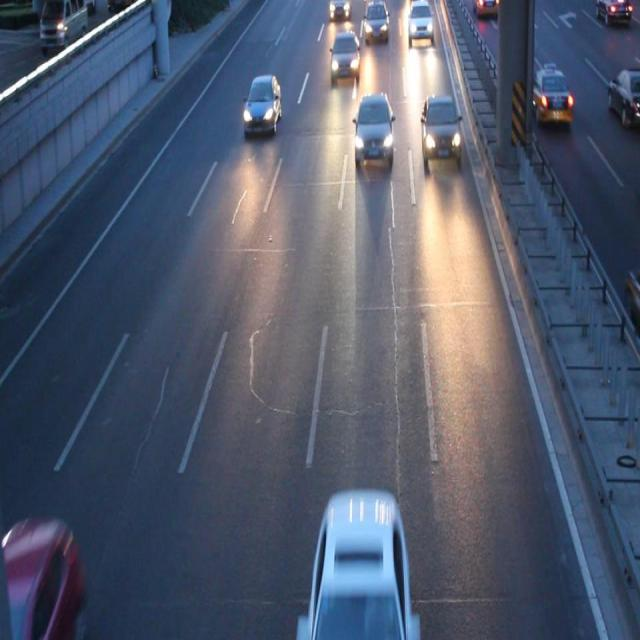car: (306, 488, 411, 640), (1, 512, 88, 640), (524, 68, 571, 122), (422, 94, 459, 160), (355, 96, 392, 159), (607, 66, 640, 122), (245, 78, 280, 130), (330, 34, 358, 75), (363, 1, 388, 39), (408, 1, 432, 38), (626, 264, 640, 314), (472, 1, 501, 17), (328, 1, 348, 18)
